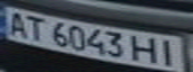0: (66, 24, 87, 52)
3: (106, 29, 130, 60)
4: (84, 26, 106, 56)
6: (45, 19, 72, 48)
A: (3, 8, 30, 38)
H: (130, 34, 163, 64)
I: (154, 37, 184, 67)
T: (21, 12, 48, 42)
